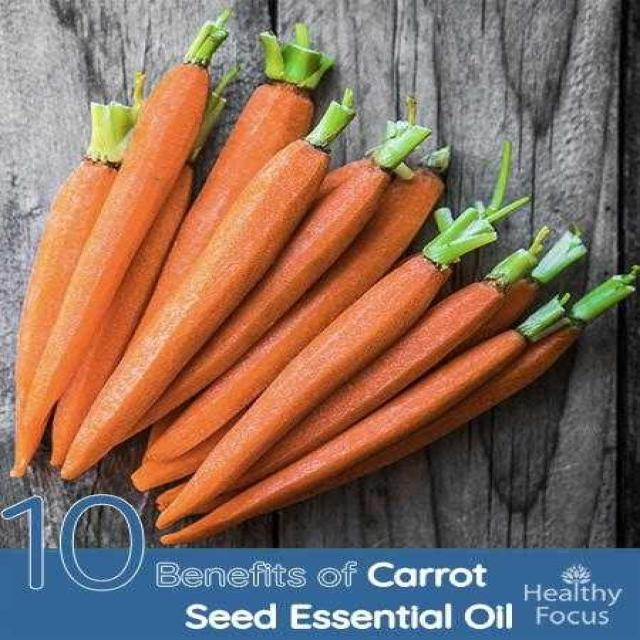carrots: (50, 140, 338, 474), (162, 260, 440, 528), (8, 62, 186, 434), (178, 339, 522, 530)
